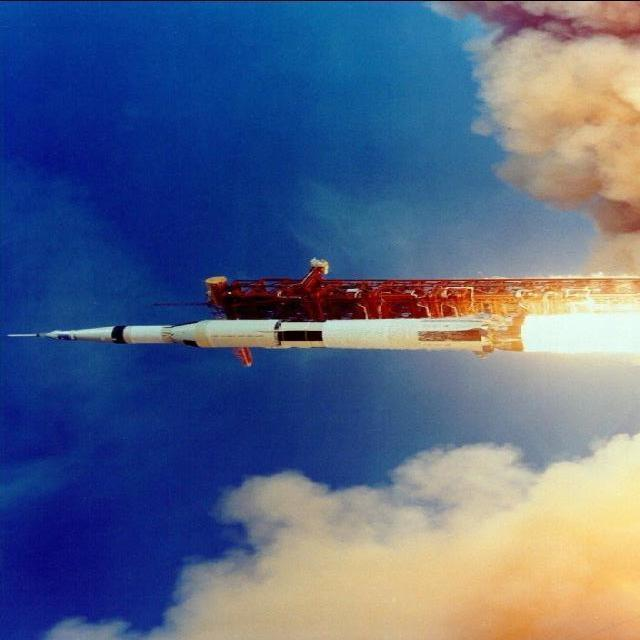missile: (8, 308, 538, 364)
